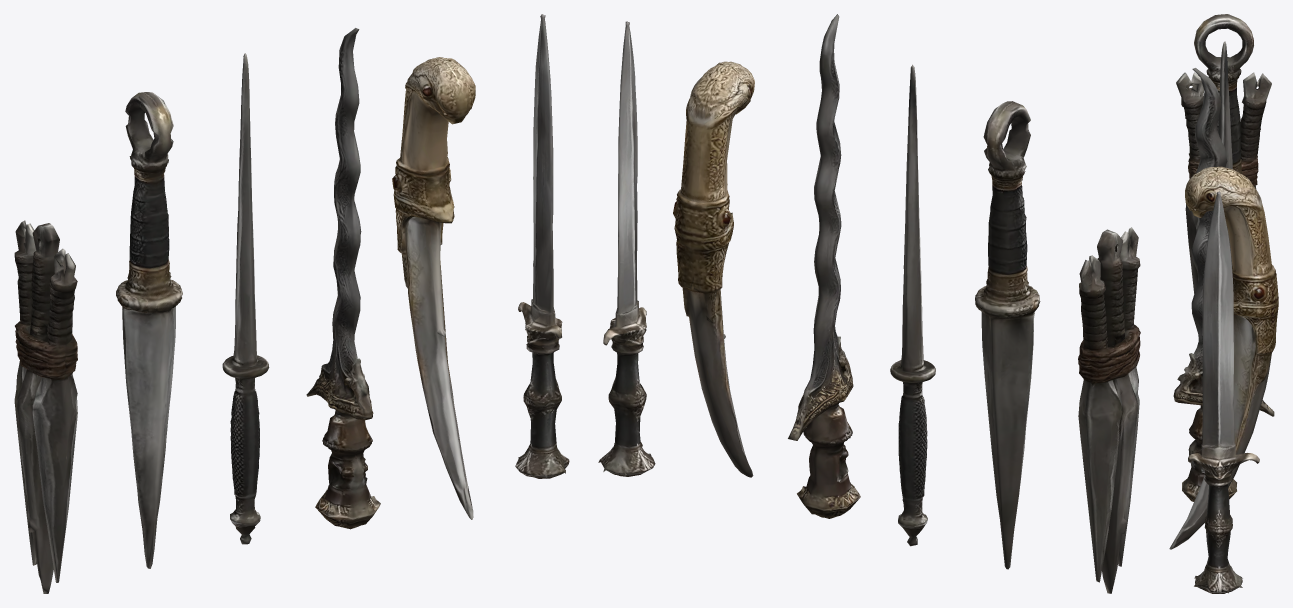
The model's file is weapons_daggers_1.glb.
The picture shows the model from 3 angles, left to right: view 1: azimuth 30°, elevation 25°; view 2: azimuth 150°, elevation 25°; view 3: azimuth 270°, elevation 25°; orthographic projection. The views are drawn at different scales.
Visible parts, largest first — view 1: knives_throwing, dagger_khanjar, dagger_dirk, dagger_kris, dagger_straight, dagger_stiletto; view 2: knives_throwing, dagger_dirk, dagger_khanjar, dagger_kris, dagger_straight, dagger_stiletto; view 3: dagger_khanjar, dagger_straight, dagger_kris, knives_throwing, dagger_dirk, dagger_stiletto.
Boxes of the visible parts, bbox=[...] form: knives_throwing: bbox=[14, 220, 77, 593]; dagger_khanjar: bbox=[392, 57, 475, 519]; dagger_dirk: bbox=[116, 92, 182, 568]; dagger_kris: bbox=[306, 28, 380, 529]; dagger_straight: bbox=[515, 14, 569, 478]; dagger_stiletto: bbox=[222, 53, 269, 544]; knives_throwing: bbox=[1078, 227, 1140, 593]; dagger_dirk: bbox=[975, 101, 1040, 569]; dagger_khanjar: bbox=[673, 61, 754, 477]; dagger_kris: bbox=[788, 14, 860, 518]; dagger_straight: bbox=[598, 21, 655, 476]; dagger_stiletto: bbox=[890, 64, 935, 546]; dagger_khanjar: bbox=[1169, 166, 1278, 549]; dagger_straight: bbox=[1188, 191, 1259, 593]; dagger_kris: bbox=[1173, 68, 1274, 501]; knives_throwing: bbox=[1176, 72, 1271, 293]; dagger_dirk: bbox=[1194, 14, 1253, 225]; dagger_stiletto: bbox=[1218, 41, 1232, 265].
Bounding box in the file's own units: 0.6925 × 0.6132 × 0.1386.
Materials: 1 (1 with a texture image).
